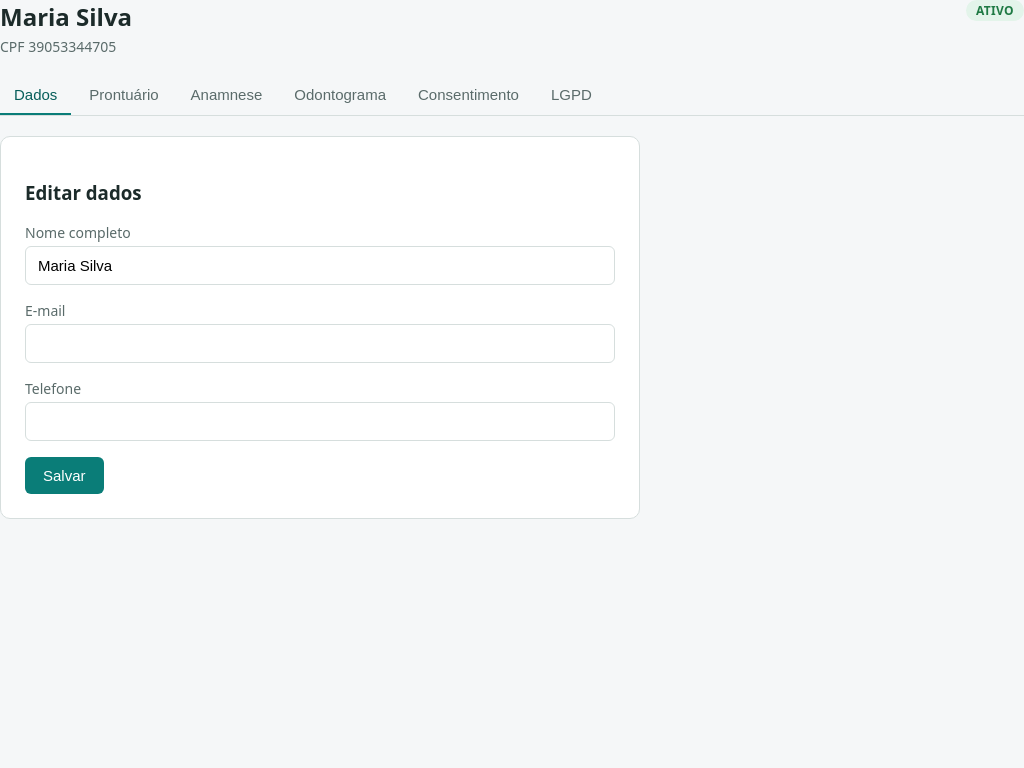
Test: PatientDetailPage › na aba prontuario, exige consentimento quando 451
Expected: the heading "Maria Silva" is shown, [0,0,132,33]
Step 1. Click the tab "Prontuário" → (124, 96), box [75,76,173,115]
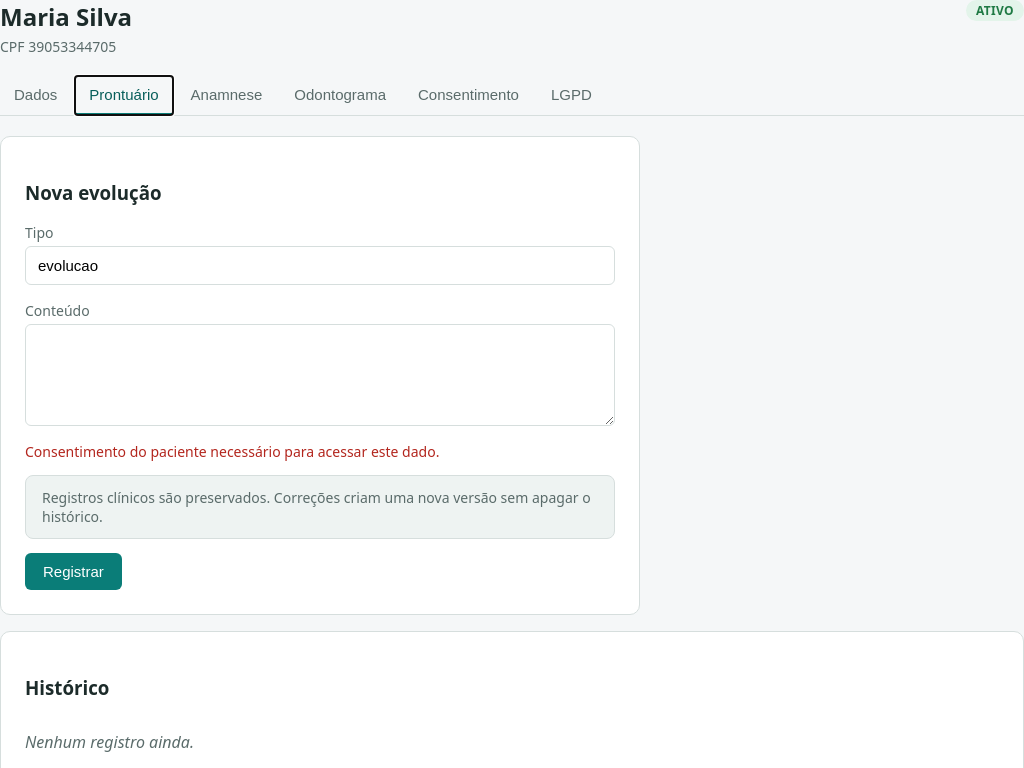
Result: the text "Consentimento do paciente necessário para acessar este dado." is shown at [25,442,439,461]
